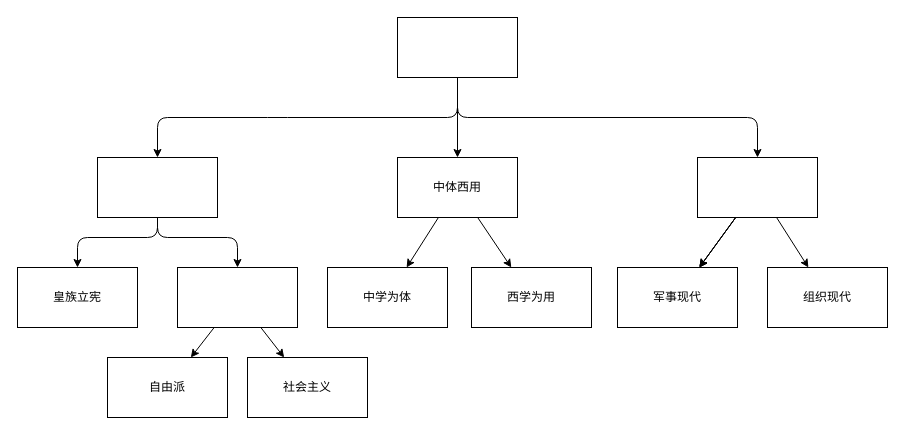
Image size: 905x435. Some labels were removed from this diagram. Here are the shapes that lost their labels. From the top down, the box of each, then its label:
(396, 16, 518, 78): 中国
(96, 156, 218, 218): 皇帝万岁
(696, 156, 818, 218): 绿营改革
(176, 266, 298, 328): 民主化
